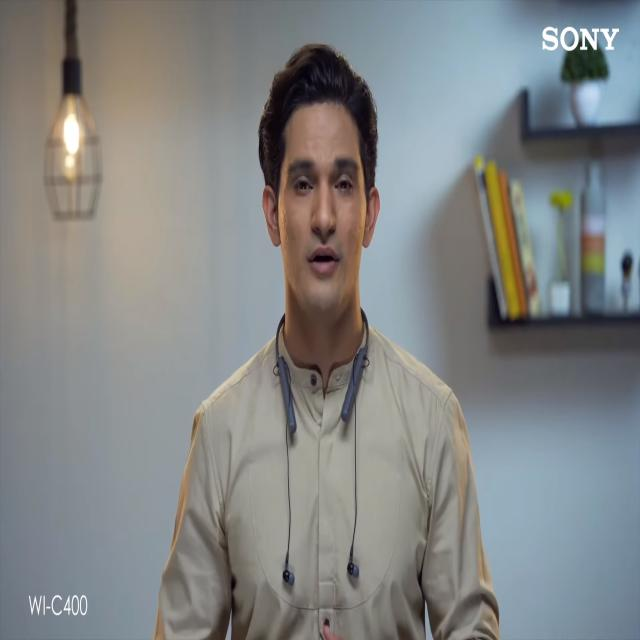Neckband: (272, 305, 369, 586)
